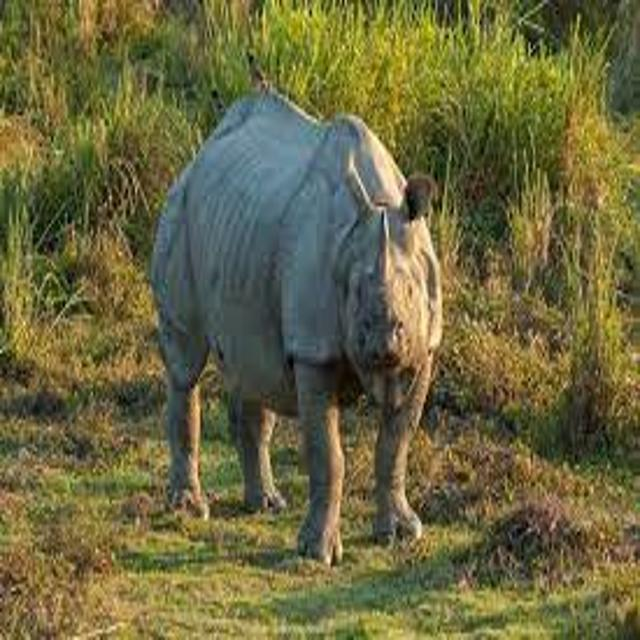Rinoceros: (114, 72, 490, 610)
